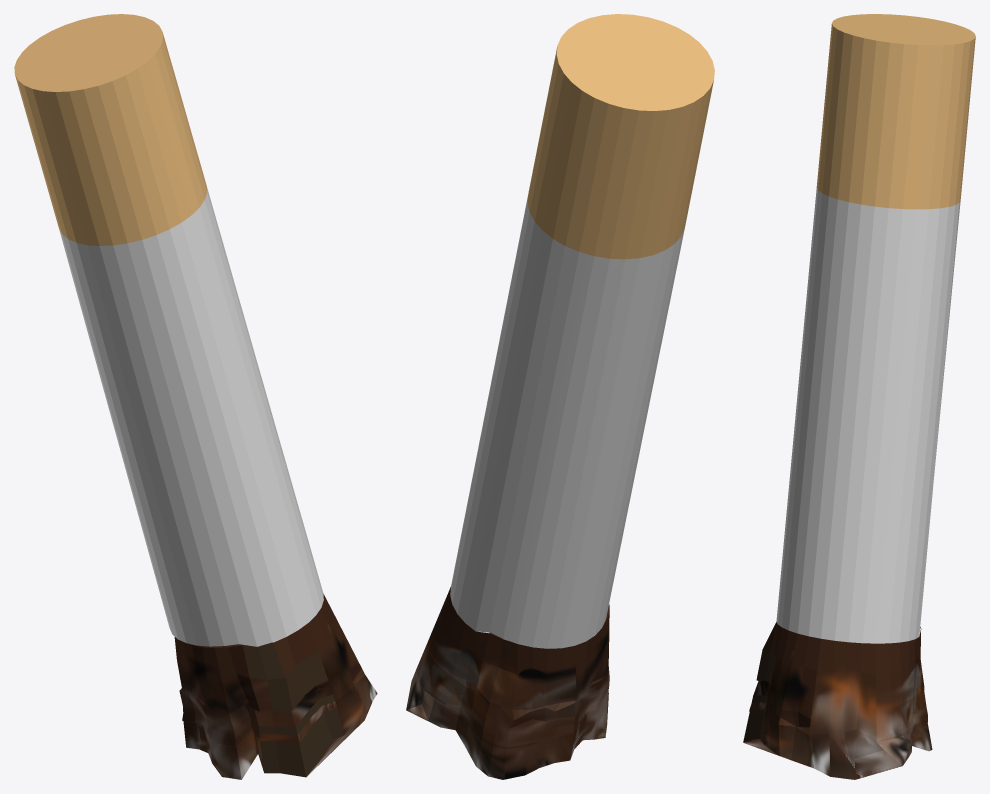
The model's file is cigarette_shorter3.glb.
3 renders of one model, left to right at view 1: azimuth 30°, elevation 25°; view 2: azimuth 150°, elevation 25°; view 3: azimuth 270°, elevation 25°, orthographic. The views are drawn at different scales.
Visible parts, largest first — view 1: Cylinder; view 2: Cylinder; view 3: Cylinder.
Boxes of the visible parts, left/top/right/bottom form: Cylinder: left=14, top=14, right=377, bottom=779; Cylinder: left=406, top=14, right=714, bottom=779; Cylinder: left=743, top=14, right=975, bottom=779.
Bounding box in the file's own units: 4.72 × 10.38 × 3.22.
Materials: 4 (1 with a texture image).
